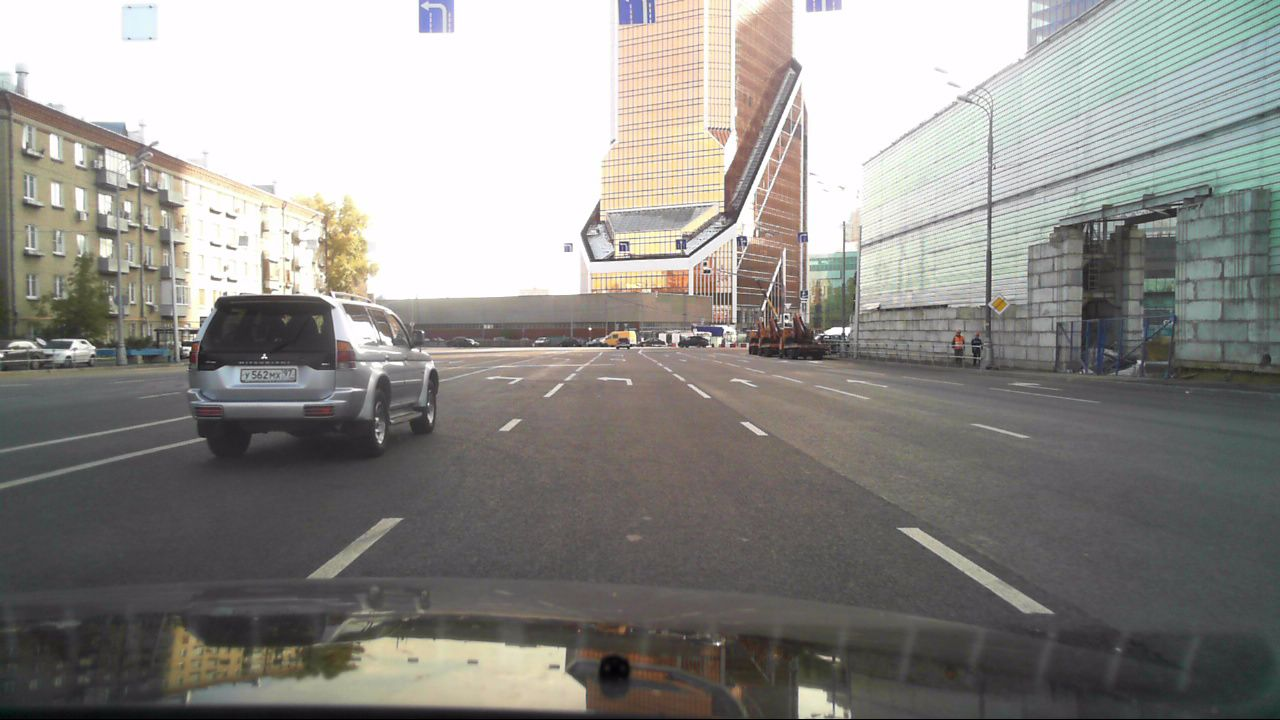main road: (988, 295, 1012, 318)
